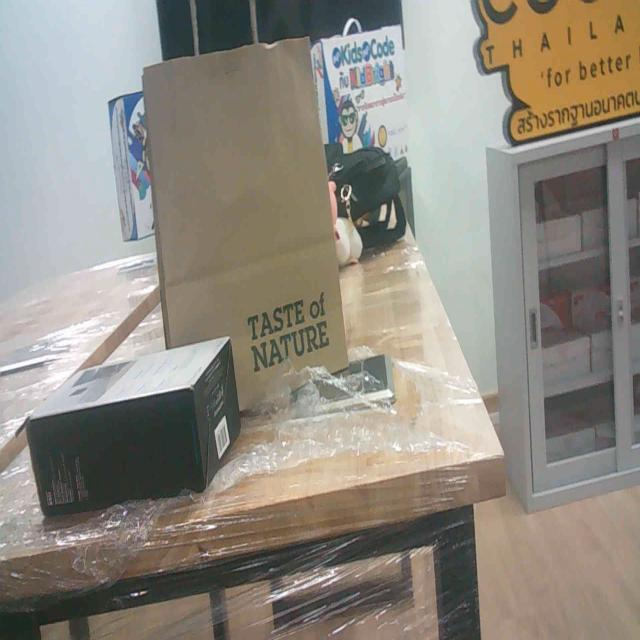bag: (136, 38, 356, 431)
